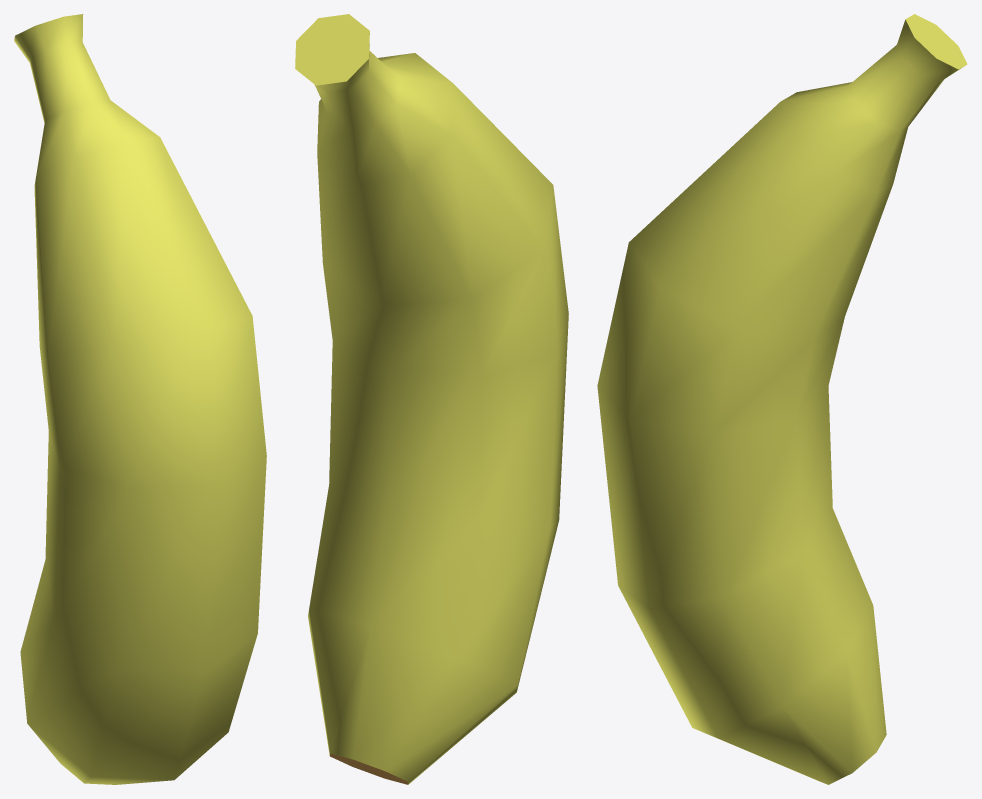
The model's file is Fruit_Banana.fbx.
3 views of the same model, side by side, from view 1: azimuth 30°, elevation 25°; view 2: azimuth 150°, elevation 25°; view 3: azimuth 270°, elevation 25° (orthographic). The views are drawn at different scales.
Visible parts, largest first — view 1: pCylinder32; view 2: pCylinder32; view 3: pCylinder32.
Part boxes in pixels (x1,y1,x2,y2): pCylinder32: (14,14,266,784); pCylinder32: (295,14,568,784); pCylinder32: (597,14,967,784).
Bounding box in the file's own units: 0.4709 × 1.7 × 0.7535.
